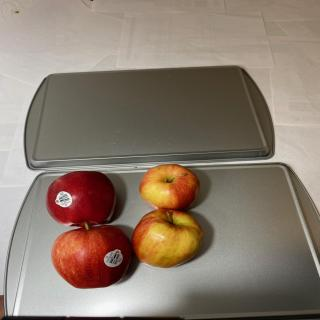Apple: (51, 221, 132, 289), (131, 208, 204, 269), (46, 170, 116, 228), (139, 164, 200, 210)
